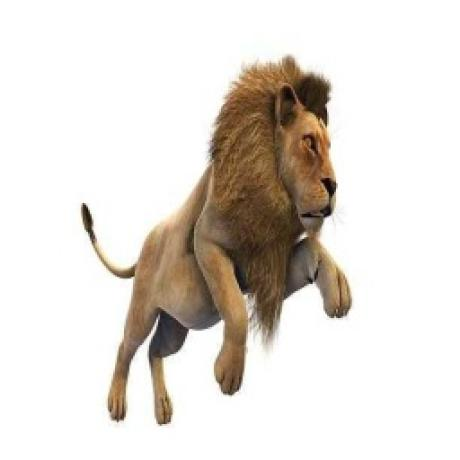Lion: (79, 51, 368, 425)
